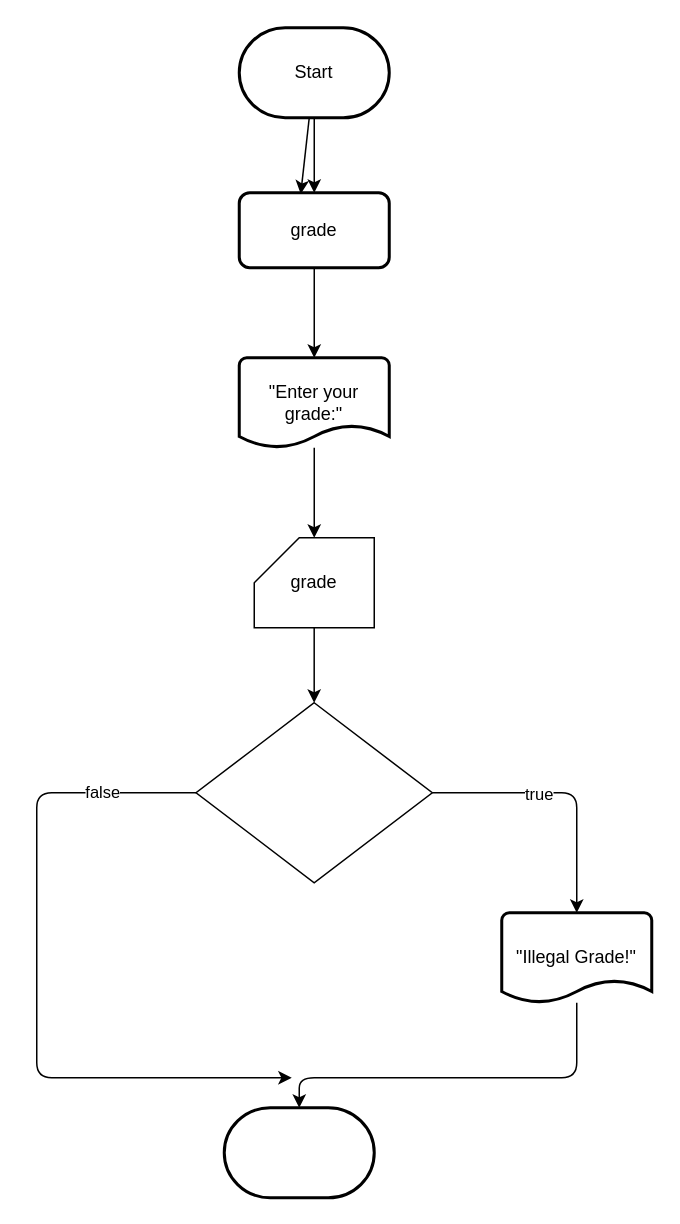
Image size: 680x1224. Some labels were removed from this diagram. The shapes that lost their labels are listed below. From the top down, each one's centre as x and y in pixels, then its label:
At (x=313, y=792): "grade < 0 || grade > 100".
At (x=298, y=1152): "Stop".
